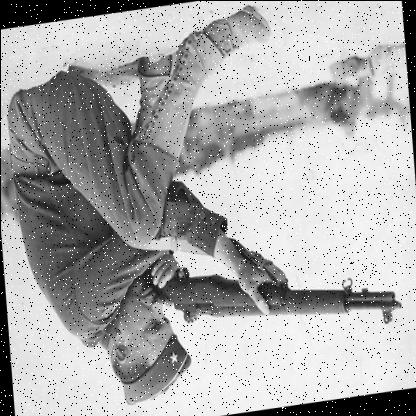rifle: (142, 221, 404, 363)
